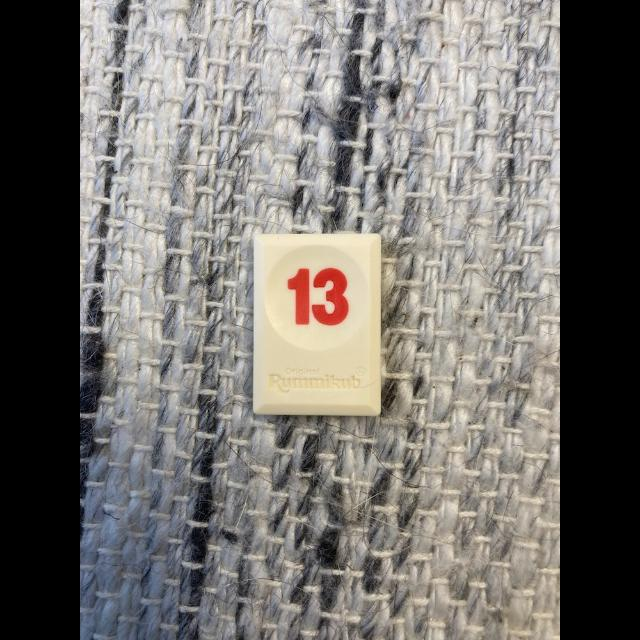red_13: (255, 234, 381, 415)
